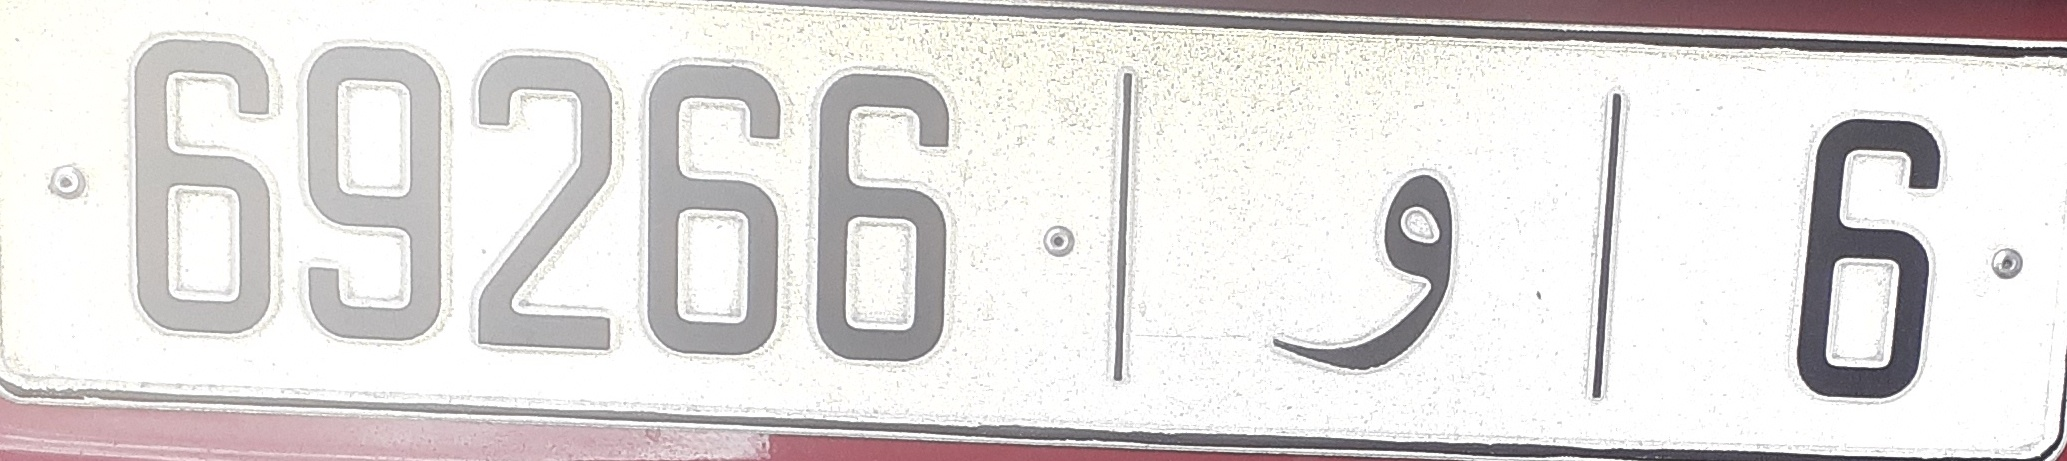2: (466, 44, 631, 356)
6: (115, 32, 285, 344), (809, 64, 960, 366), (636, 56, 780, 366), (1796, 112, 1948, 402)
9: (293, 42, 451, 349)
waw: (1265, 163, 1467, 380)
